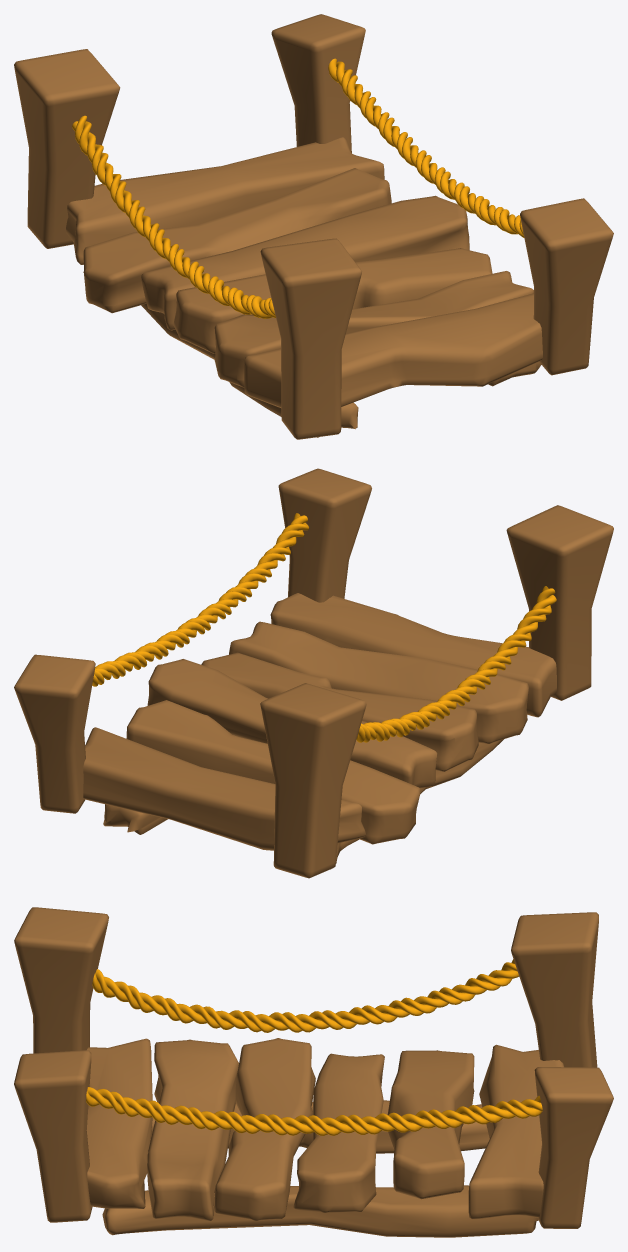
File: Tile_Bridge_Fixed.fbx
The picture shows the model from 3 angles, top to bottom: view 1: azimuth 30°, elevation 25°; view 2: azimuth 150°, elevation 25°; view 3: azimuth 270°, elevation 25°; orthographic projection. The views are drawn at different scales.
Parts seen in each view (by area): view 1: Cube.098; view 2: Cube.098; view 3: Cube.098.
Boxes of the visible parts, box(x1,y1,x2,y2) form: Cube.098: box(14, 14, 613, 439); Cube.098: box(14, 468, 613, 878); Cube.098: box(14, 907, 613, 1237).
Bounding box in the file's own units: 132 × 75.45 × 201.
Materials: 1 (1 with a texture image).
